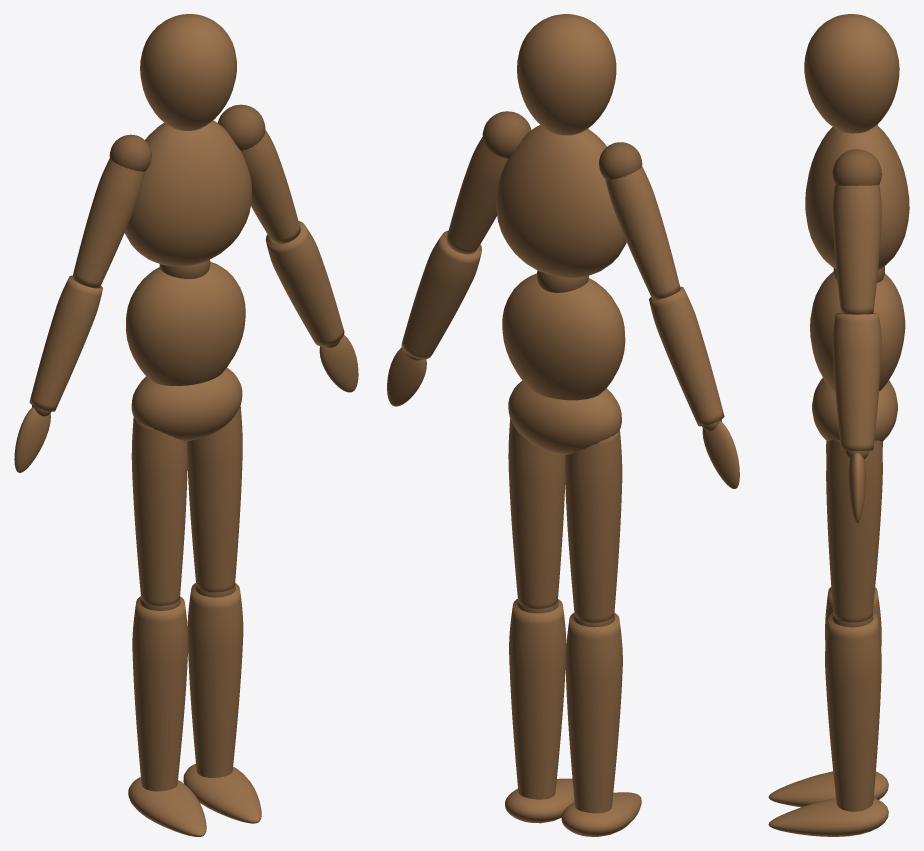
The model's file is mannequin.glb.
The picture shows the model from 3 angles, left to right: view 1: azimuth 30°, elevation 25°; view 2: azimuth 150°, elevation 25°; view 3: azimuth 270°, elevation 25°; orthographic projection. The views are drawn at different scales.
Parts seen in each view (by area): view 1: chest, abdomen, shin_R, shin_L, head, thigh_R, thigh_L, pelvis, forearm_L, upper_arm_R, forearm_R, upper_arm_L (+6 smaller); view 2: chest, abdomen, head, shin_R, shin_L, thigh_R, thigh_L, pelvis, forearm_L, upper_arm_R, forearm_R, upper_arm_L (+7 smaller); view 3: shin_L, head, thigh_L, chest, forearm_L, upper_arm_L, abdomen, foot_L, pelvis, foot_R, shoulder_L, hand_L (+1 smaller).
Part boxes in pixels (<box>): chest: <box>124,120,251,266</box>; abdomen: <box>126,262,245,385</box>; shin_R: <box>132,596,188,791</box>; shin_L: <box>187,583,243,777</box>; head: <box>140,14,236,130</box>; thigh_R: <box>131,417,187,605</box>; thigh_L: <box>187,406,242,592</box>; pelvis: <box>131,368,242,441</box>; forearm_L: <box>265,221,344,346</box>; upper_arm_R: <box>72,158,145,288</box>; forearm_R: <box>29,275,102,411</box>; upper_arm_L: <box>241,130,300,244</box>; chest: <box>496,125,626,277</box>; abdomen: <box>502,273,625,400</box>; head: <box>517,14,616,135</box>; shin_R: <box>565,613,622,813</box>; shin_L: <box>509,599,566,799</box>; thigh_R: <box>565,430,622,622</box>; thigh_L: <box>508,419,565,608</box>; pelvis: <box>508,380,621,454</box>; forearm_L: <box>401,230,481,359</box>; upper_arm_R: <box>605,166,680,299</box>; forearm_R: <box>649,286,724,426</box>; upper_arm_L: <box>446,137,508,254</box>; shin_L: <box>825,612,881,811</box>; head: <box>804,14,899,133</box>; thigh_L: <box>826,439,882,622</box>; chest: <box>805,125,909,269</box>; forearm_L: <box>832,313,881,450</box>; upper_arm_L: <box>832,185,881,314</box>; abdomen: <box>810,271,905,391</box>; foot_L: <box>768,798,888,836</box>; pelvis: <box>812,378,897,441</box>; foot_R: <box>768,771,888,807</box>; shoulder_L: <box>832,149,881,185</box>; hand_L: <box>848,453,865,523</box>.
Size of the model in its own units: 3.74 by 8.2 by 1.31.
